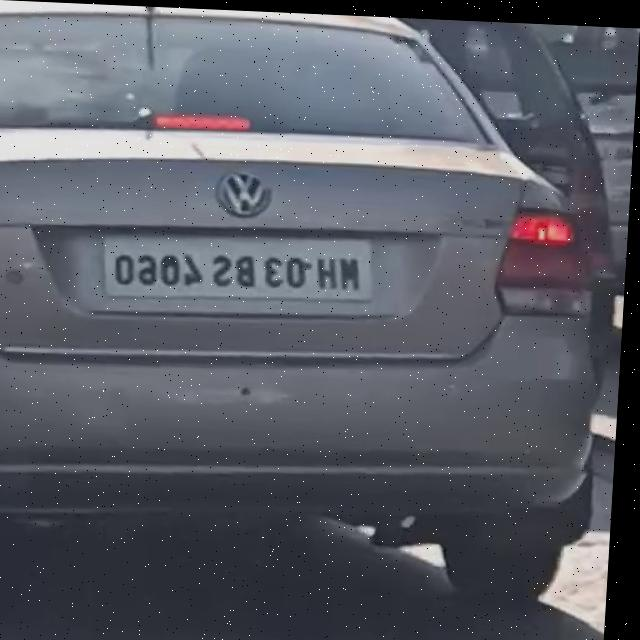plate: (100, 227, 374, 311)
